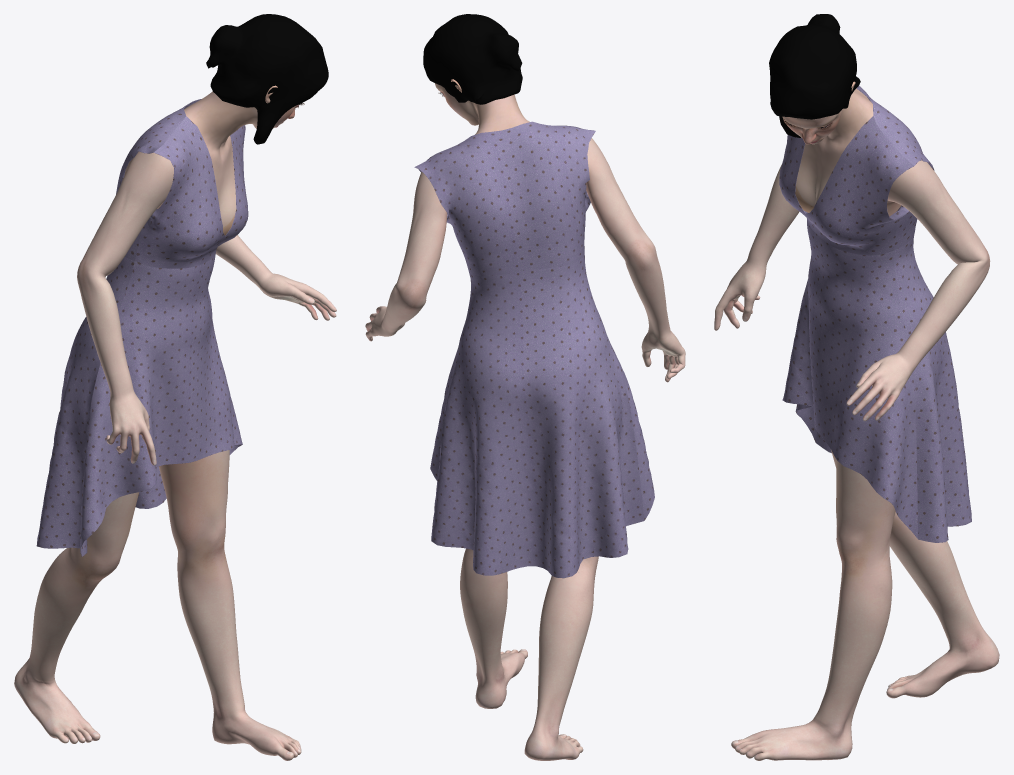
The model's file is Custom_View_8__random.obj.
3 views of the same model, side by side, from view 1: azimuth 30°, elevation 25°; view 2: azimuth 150°, elevation 25°; view 3: azimuth 270°, elevation 25° (orthographic). The views are drawn at different scales.
Bounding box in the file's own units: 696 × 1681 × 585.
